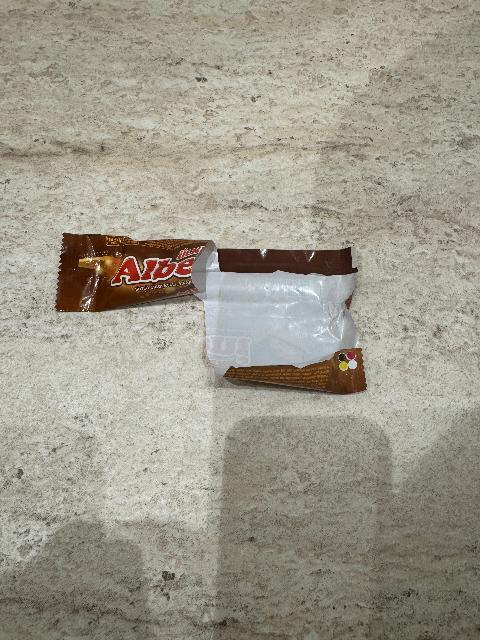Plastik: (56, 223, 374, 401)
